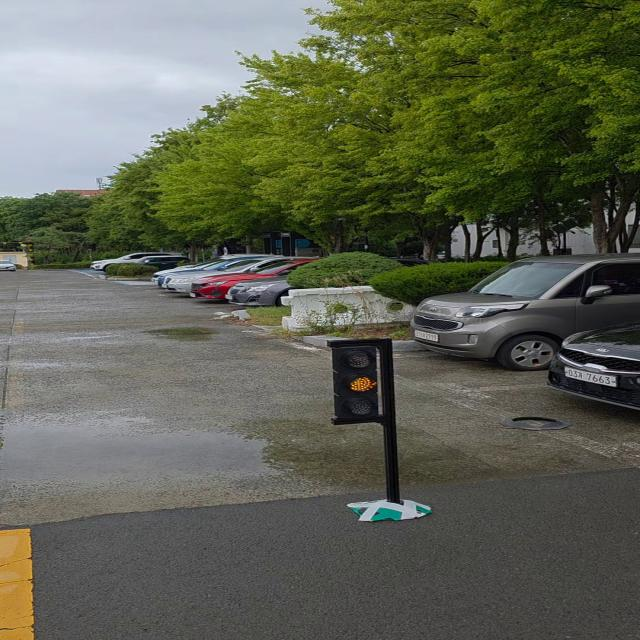yellow: (330, 340, 386, 423)
